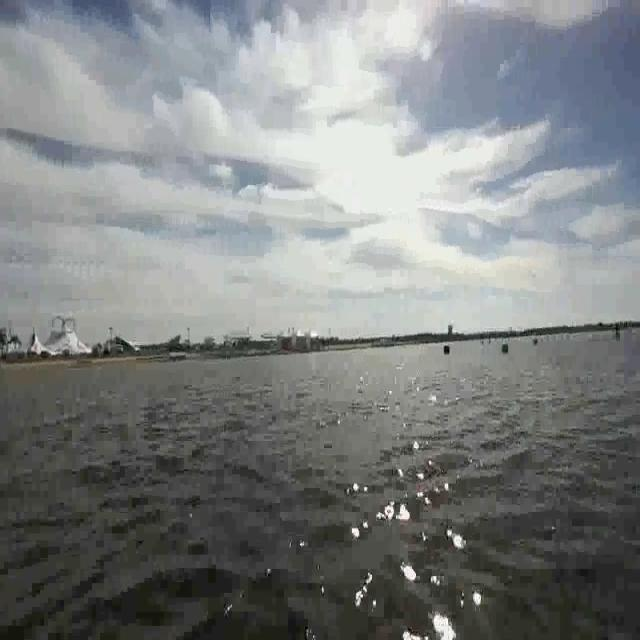green-buoy: (500, 342, 509, 355)
